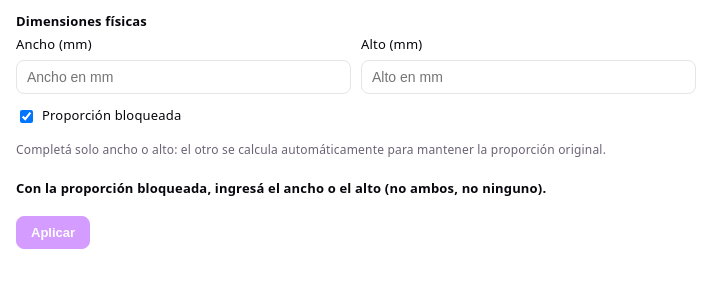
it: DimensionPanel — aplicar › Aplicar persiste las dimensiones con el valor tal como lo completó el usuario (no el derivado)
In the number field labelled "Ancho (mm)": x=184, y=77 [16,60,351,94], type "100"
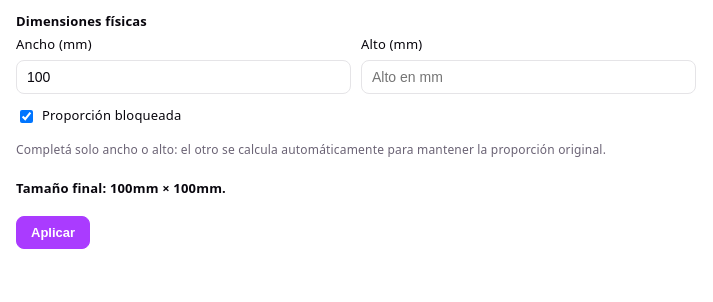
Click the button "Aplicar": x=53, y=232 [16,216,90,249]
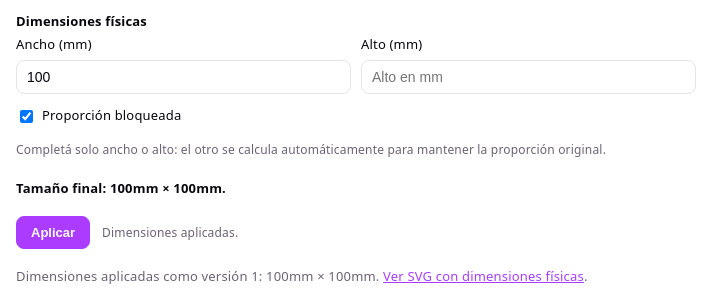
Expected: the text "Dimensiones aplicadas como versión 1" is shown, [16,267,588,285]
